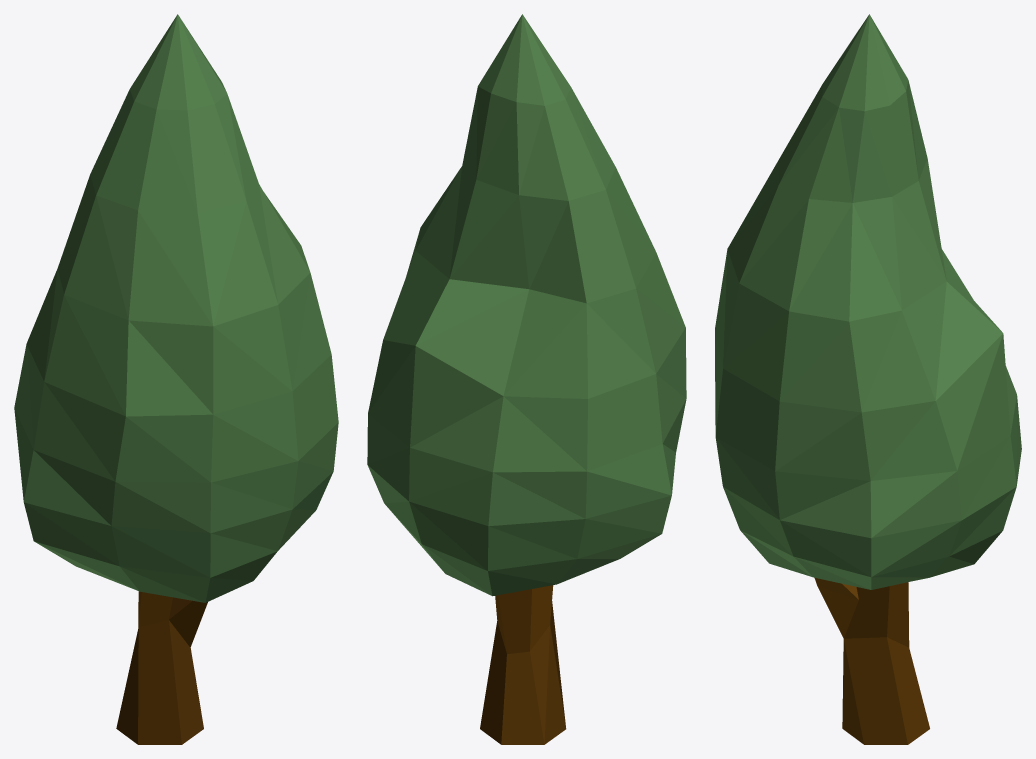
Rendered from tree4.fbx.
3 renders of one model, left to right at view 1: azimuth 30°, elevation 25°; view 2: azimuth 150°, elevation 25°; view 3: azimuth 270°, elevation 25°, orthographic.
Parts seen in each view (by area): view 1: pSphere2; view 2: pSphere2; view 3: pSphere2.
Boxes of the visible parts, left/top/right/bottom form: pSphere2: left=14, top=14, right=338, bottom=744; pSphere2: left=367, top=14, right=686, bottom=744; pSphere2: left=715, top=14, right=1021, bottom=744.
Bounding box in the file's own units: 0.9036 × 2.06 × 0.7967.
